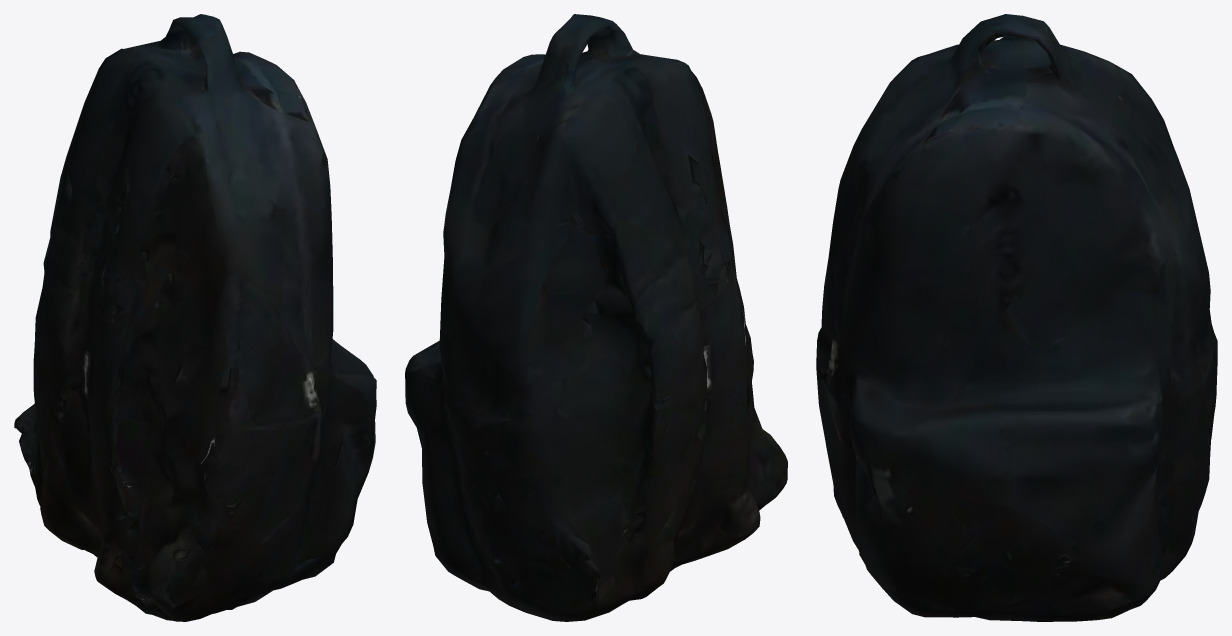
File: gear-daypack.glb
The picture shows the model from 3 angles, left to right: view 1: azimuth 30°, elevation 25°; view 2: azimuth 150°, elevation 25°; view 3: azimuth 270°, elevation 25°; orthographic projection. The views are drawn at different scales.
Parts seen in each view (by area): view 1: scan-0; view 2: scan-0; view 3: scan-0.
Part boxes in pixels (x1,y1,x2,y2): scan-0: (14, 14, 376, 621); scan-0: (405, 14, 787, 621); scan-0: (816, 14, 1217, 621).
Bounding box in the file's own units: 0.6264 × 1.23 × 0.7965.
Materials: 1 (1 with a texture image).
